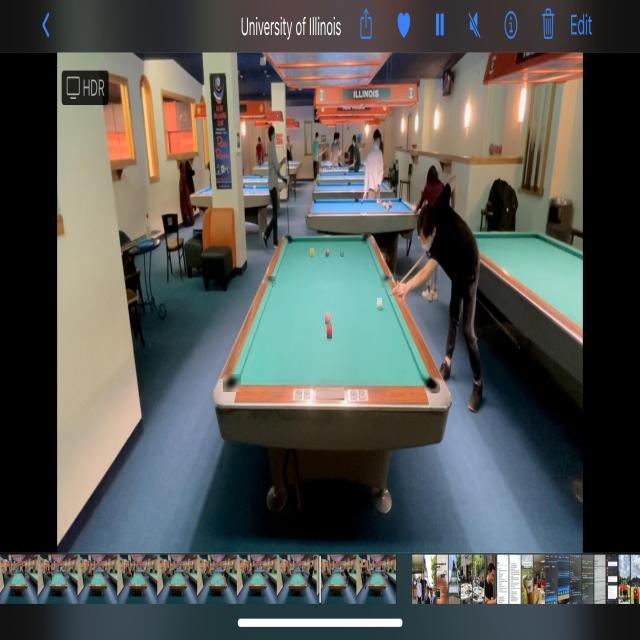Ball: (326, 312, 332, 324), (327, 324, 332, 338), (377, 298, 382, 310), (310, 248, 314, 256), (340, 250, 344, 256), (326, 249, 329, 256)
Pocket: (418, 373, 440, 393), (223, 374, 241, 392), (380, 274, 392, 288), (264, 276, 276, 286), (362, 232, 371, 244), (284, 233, 292, 244)
